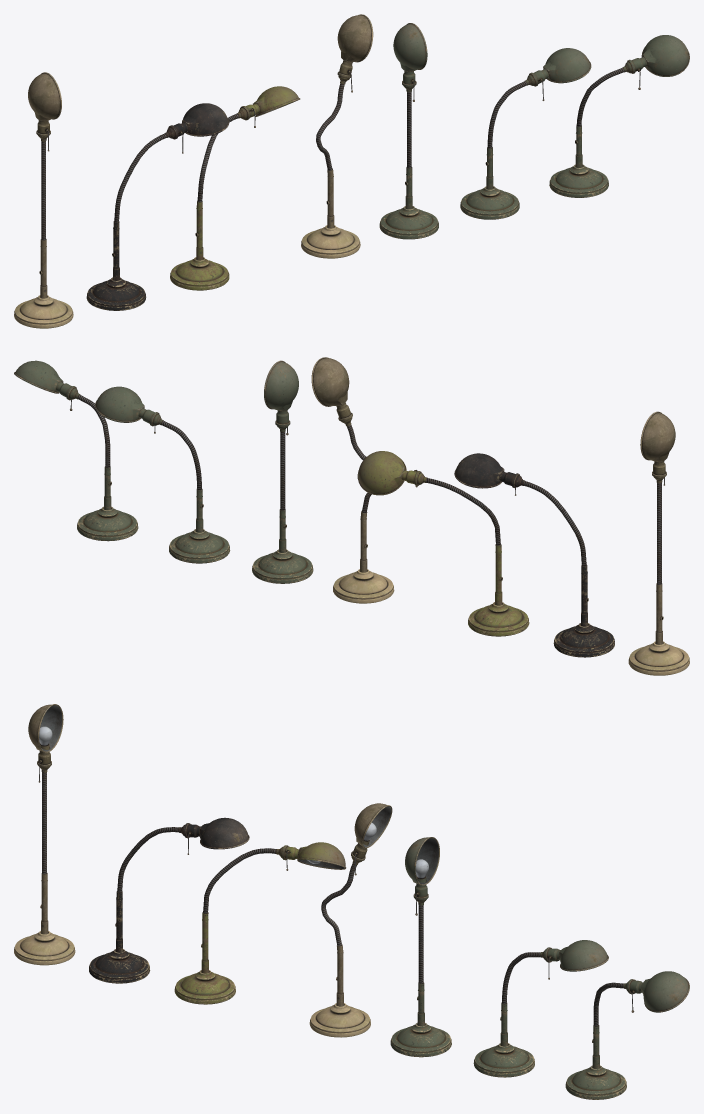
File: 1920s_gooseneck_desk_lamps_type_a.glb
The picture shows the model from 3 angles, top to bottom: view 1: azimuth 30°, elevation 25°; view 2: azimuth 150°, elevation 25°; view 3: azimuth 330°, elevation 25°; orthographic projection. The views are drawn at different scales.
Parts seen in each view (by area): view 1: 1920s Gooseneck Desk Lamp Type A TallPose04_1, 1920s Gooseneck Desk Lamp Type A ShortPose03_6, 1920s Gooseneck Desk Lamp Type A TallPose02_0, 1920s Gooseneck Desk Lamp Type A TallPose01_4, 1920s Gooseneck Desk Lamp Type A ShortPose02_3, 1920s Gooseneck Desk Lamp Type A ShortPose01_5, 1920s Gooseneck Desk Lamp Type A TallPose03_2; view 2: 1920s Gooseneck Desk Lamp Type A TallPose03_2, 1920s Gooseneck Desk Lamp Type A TallPose02_0, 1920s Gooseneck Desk Lamp Type A TallPose01_4, 1920s Gooseneck Desk Lamp Type A TallPose04_1, 1920s Gooseneck Desk Lamp Type A ShortPose02_3, 1920s Gooseneck Desk Lamp Type A ShortPose01_5, 1920s Gooseneck Desk Lamp Type A ShortPose03_6; view 3: 1920s Gooseneck Desk Lamp Type A TallPose01_4, 1920s Gooseneck Desk Lamp Type A TallPose02_0, 1920s Gooseneck Desk Lamp Type A ShortPose03_6, 1920s Gooseneck Desk Lamp Type A TallPose04_1, 1920s Gooseneck Desk Lamp Type A ShortPose01_5, 1920s Gooseneck Desk Lamp Type A TallPose03_2, 1920s Gooseneck Desk Lamp Type A ShortPose02_3.
Boxes of the visible parts, x1,y1,x2,y2 form: 1920s Gooseneck Desk Lamp Type A TallPose04_1: [301, 14, 373, 258]; 1920s Gooseneck Desk Lamp Type A ShortPose03_6: [549, 35, 689, 197]; 1920s Gooseneck Desk Lamp Type A TallPose02_0: [86, 103, 229, 310]; 1920s Gooseneck Desk Lamp Type A TallPose01_4: [14, 72, 73, 328]; 1920s Gooseneck Desk Lamp Type A ShortPose02_3: [460, 48, 591, 219]; 1920s Gooseneck Desk Lamp Type A ShortPose01_5: [379, 23, 438, 239]; 1920s Gooseneck Desk Lamp Type A TallPose03_2: [170, 86, 300, 290]; 1920s Gooseneck Desk Lamp Type A TallPose03_2: [357, 451, 529, 636]; 1920s Gooseneck Desk Lamp Type A TallPose02_0: [454, 453, 614, 657]; 1920s Gooseneck Desk Lamp Type A TallPose01_4: [628, 411, 689, 675]; 1920s Gooseneck Desk Lamp Type A TallPose04_1: [311, 357, 394, 603]; 1920s Gooseneck Desk Lamp Type A ShortPose02_3: [95, 386, 230, 563]; 1920s Gooseneck Desk Lamp Type A ShortPose01_5: [252, 360, 313, 583]; 1920s Gooseneck Desk Lamp Type A ShortPose03_6: [14, 360, 138, 541]; 1920s Gooseneck Desk Lamp Type A TallPose01_4: [14, 704, 75, 965]; 1920s Gooseneck Desk Lamp Type A TallPose02_0: [89, 817, 249, 983]; 1920s Gooseneck Desk Lamp Type A ShortPose03_6: [565, 971, 689, 1099]; 1920s Gooseneck Desk Lamp Type A TallPose04_1: [309, 803, 392, 1037]; 1920s Gooseneck Desk Lamp Type A ShortPose01_5: [390, 837, 451, 1057]; 1920s Gooseneck Desk Lamp Type A TallPose03_2: [174, 842, 346, 1004]; 1920s Gooseneck Desk Lamp Type A ShortPose02_3: [473, 940, 608, 1077].
Bounding box in the file's own units: 2.53 × 0.8825 × 0.3259.
4 materials, 4 textured.
